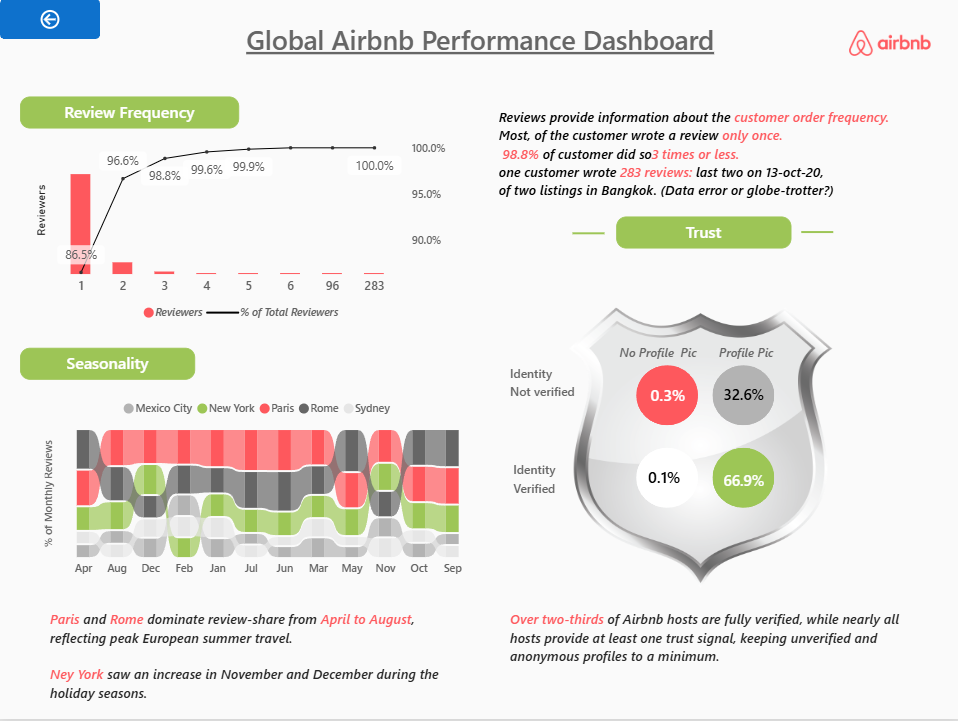

The dashboard page shown, as its layout file describes it:
{"tool":"powerbi","page":{"name":"Reviews","canvas":[960,720],"ordinal":2},"visuals":[{"type":"textbox","box":[167.8,22.2,625.3,44.7],"z":0},{"type":"image","box":[836.7,31.1,107.2,25.7],"z":1000},{"type":"textbox","box":[20,97.5,218.9,32.4],"z":2000},{"type":"actionButton","box":[0,0,100,40],"z":3000},{"type":"textbox","box":[616,218,175,31.7],"z":4000},{"type":"lineStackedColumnComboChart","fields":{"Category":["Reviews.Reviews per Reviewers"],"Y":["Reviews.Reviewers"],"Y2":["Reviews.% of Total Reviewers"]},"box":[20,124.3,445.7,218.6],"z":5000},{"type":"textbox","box":[499,108,425.7,110],"z":6000},{"type":"image","box":[444,235,513.8,427.5],"z":7000},{"type":"shape","box":[572,214,32.2,41.1],"z":8000},{"type":"shape","box":[801,213,32.2,41.1],"z":9000},{"type":"shape","box":[712.5,448.8,61.8,60],"z":10000},{"type":"cardVisual","fields":{"Data":["Listings.Verified_Profile %"]},"box":[691.2,442.5,105,78.8],"z":11000},{"type":"shape","box":[636.2,448.8,61.8,60],"z":12000},{"type":"shape","box":[636.2,366.2,61.8,60],"z":13000},{"type":"shape","box":[712.5,366.2,61.8,60],"z":14000},{"type":"cardVisual","fields":{"Data":["Listings.NotVerified_NoProfile %"]},"box":[620,360,96.2,70],"z":15000},{"type":"cardVisual","fields":{"Data":["Listings.NotVerified_Profile %"]},"box":[691.2,355,105,81.2],"z":16000},{"type":"cardVisual","fields":{"Data":["Listings.Verified_NoProfile %"]},"box":[616,442,96.2,70],"z":17000},{"type":"textbox","box":[591.2,342.5,133.8,23.8],"z":18000},{"type":"textbox","box":[691.2,342.5,110,28.8],"z":19000},{"type":"textbox","box":[510,364.3,93.8,51.2],"z":20000},{"type":"textbox","box":[502.5,460,63.8,45],"z":21000},{"type":"textbox","box":[510,610,426,79],"z":22000},{"type":"ribbonChart","fields":{"Category":["Reviews.Review Month"],"Series":["Listings.city"],"Y":["Reviews.% of Monthly Reviews"]},"box":[28.6,381.4,460,215.7],"z":23000},{"type":"textbox","box":[20,348.6,175.3,32.4],"z":24000},{"type":"textbox","box":[50,610,415.7,102.9],"z":25000}]}

Visuals, with their boxes in screenshot pixels (x1, y1, x2, y2), scaled from the page's 960x720 canvas onto the 958x721 screenshot:
textbox: [x1=167, y1=22, x2=791, y2=67]
image: [x1=835, y1=31, x2=942, y2=57]
textbox: [x1=20, y1=98, x2=238, y2=130]
actionButton: [x1=0, y1=0, x2=100, y2=40]
textbox: [x1=615, y1=218, x2=789, y2=250]
lineStackedColumnComboChart - Reviews.Reviews per Reviewers x Reviews.Reviewers: [x1=20, y1=124, x2=465, y2=343]
textbox: [x1=498, y1=108, x2=923, y2=218]
image: [x1=443, y1=235, x2=956, y2=663]
shape: [x1=571, y1=214, x2=603, y2=255]
shape: [x1=799, y1=213, x2=831, y2=254]
shape: [x1=711, y1=449, x2=773, y2=510]
cardVisual - Listings.Verified_Profile %: [x1=690, y1=443, x2=795, y2=522]
shape: [x1=635, y1=449, x2=697, y2=510]
shape: [x1=635, y1=367, x2=697, y2=427]
shape: [x1=711, y1=367, x2=773, y2=427]
cardVisual - Listings.NotVerified_NoProfile %: [x1=619, y1=360, x2=715, y2=431]
cardVisual - Listings.NotVerified_Profile %: [x1=690, y1=355, x2=795, y2=437]
cardVisual - Listings.Verified_NoProfile %: [x1=615, y1=443, x2=711, y2=513]
textbox: [x1=590, y1=343, x2=723, y2=367]
textbox: [x1=690, y1=343, x2=800, y2=372]
textbox: [x1=509, y1=365, x2=603, y2=416]
textbox: [x1=501, y1=461, x2=565, y2=506]
textbox: [x1=509, y1=611, x2=934, y2=690]
ribbonChart - Reviews.Review Month x Listings.city: [x1=29, y1=382, x2=488, y2=598]
textbox: [x1=20, y1=349, x2=195, y2=382]
textbox: [x1=50, y1=611, x2=465, y2=714]
